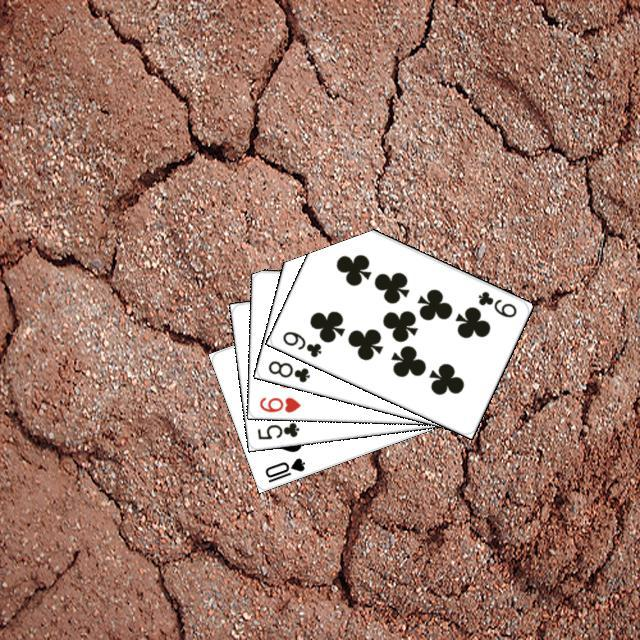10s: (260, 453, 307, 484)
5c: (252, 417, 301, 441)
6h: (255, 392, 302, 414)
8c: (263, 356, 312, 384)
9c: (277, 326, 323, 359), (473, 286, 519, 319)
